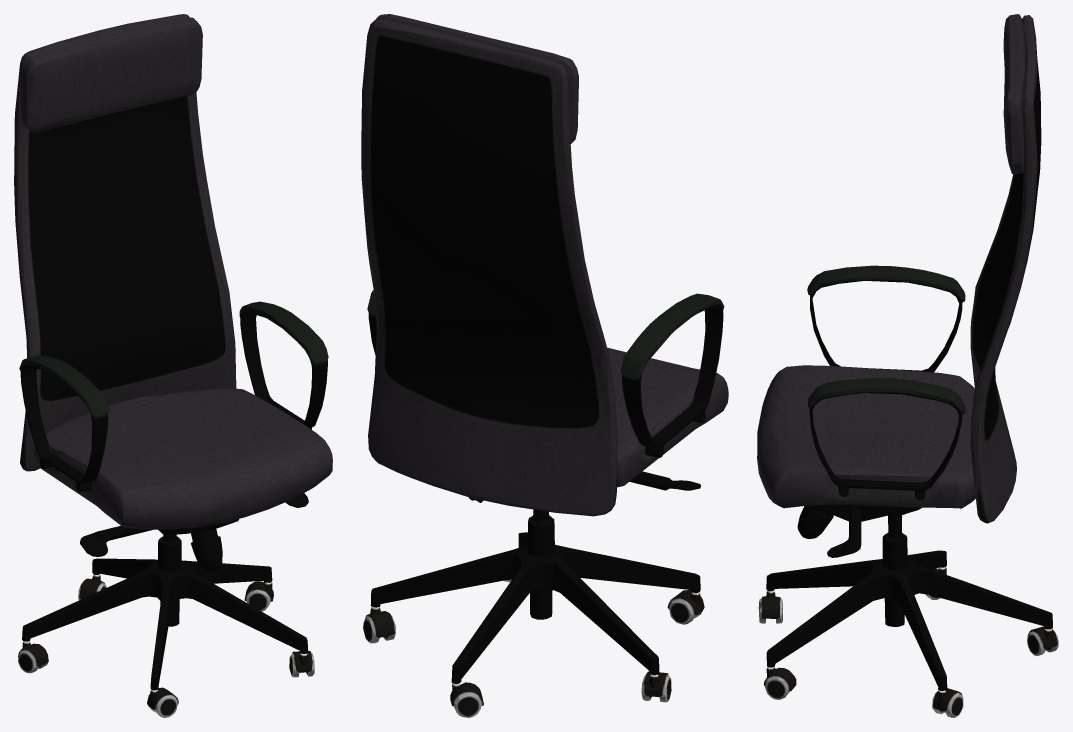
File: office_chair_markus_30261152.glb
3 views of the same model, side by side, from view 1: azimuth 30°, elevation 25°; view 2: azimuth 150°, elevation 25°; view 3: azimuth 270°, elevation 25° (orthographic). The views are drawn at different scales.
Visible parts, largest first — view 1: ProcessedMeshNode; view 2: ProcessedMeshNode; view 3: ProcessedMeshNode.
Boxes of the visible parts, x1=… form: ProcessedMeshNode: x1=14, y1=14, x2=332, y2=717; ProcessedMeshNode: x1=361, y1=14, x2=728, y2=717; ProcessedMeshNode: x1=757, y1=14, x2=1058, y2=717.
Bounding box in the file's own units: 0.6305 × 1.35 × 0.6094.
Materials: 1 (1 with a texture image).
